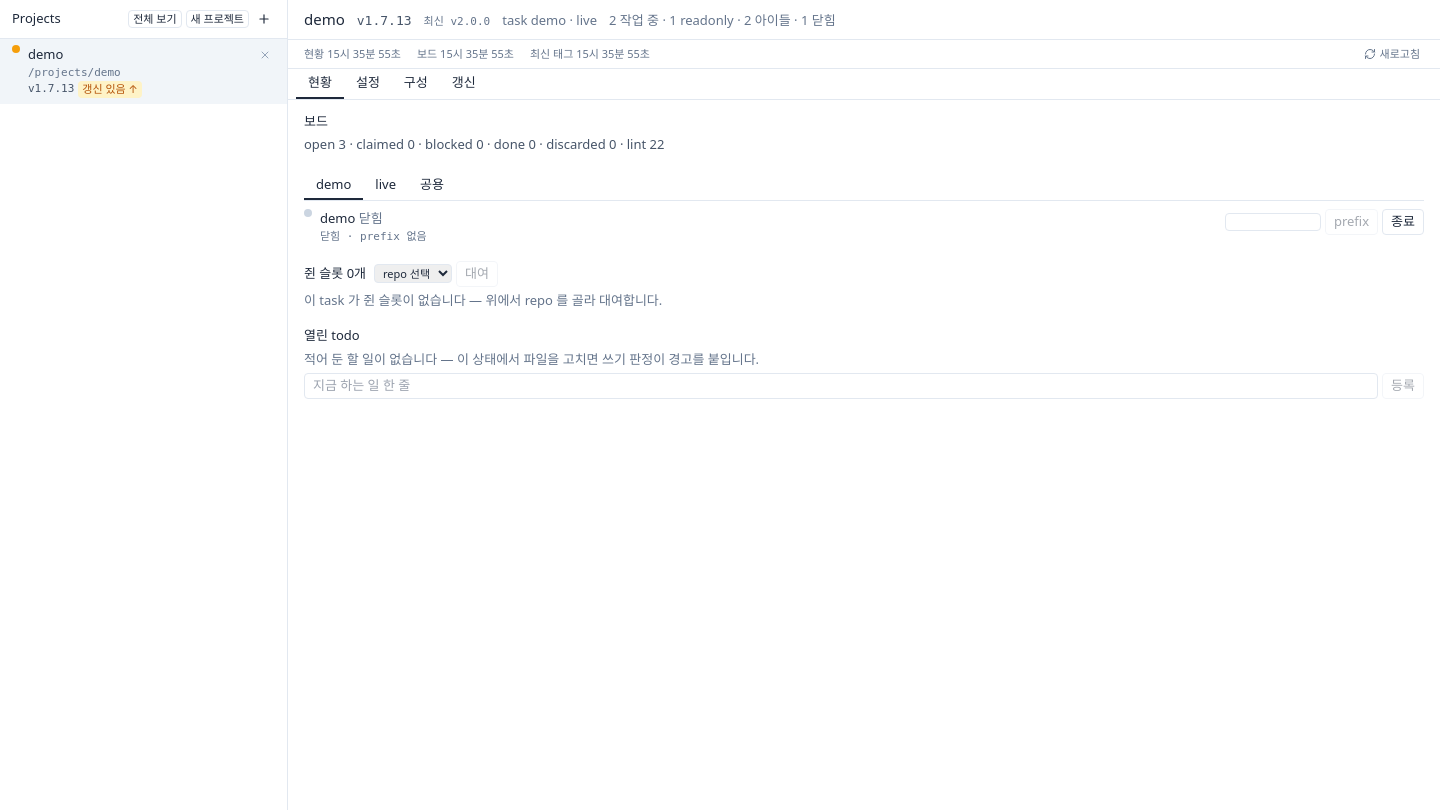
Test: 등록 › 새 행의 조회 키는 폴더 선택 표기가 아니라 등록부가 돌려준 표기다
Expected: the element with test id "project-demo" is shown, 0,39 -> 287,104
Click the button named "프로젝트 추가" at (264, 19), box 253,8 -> 275,30
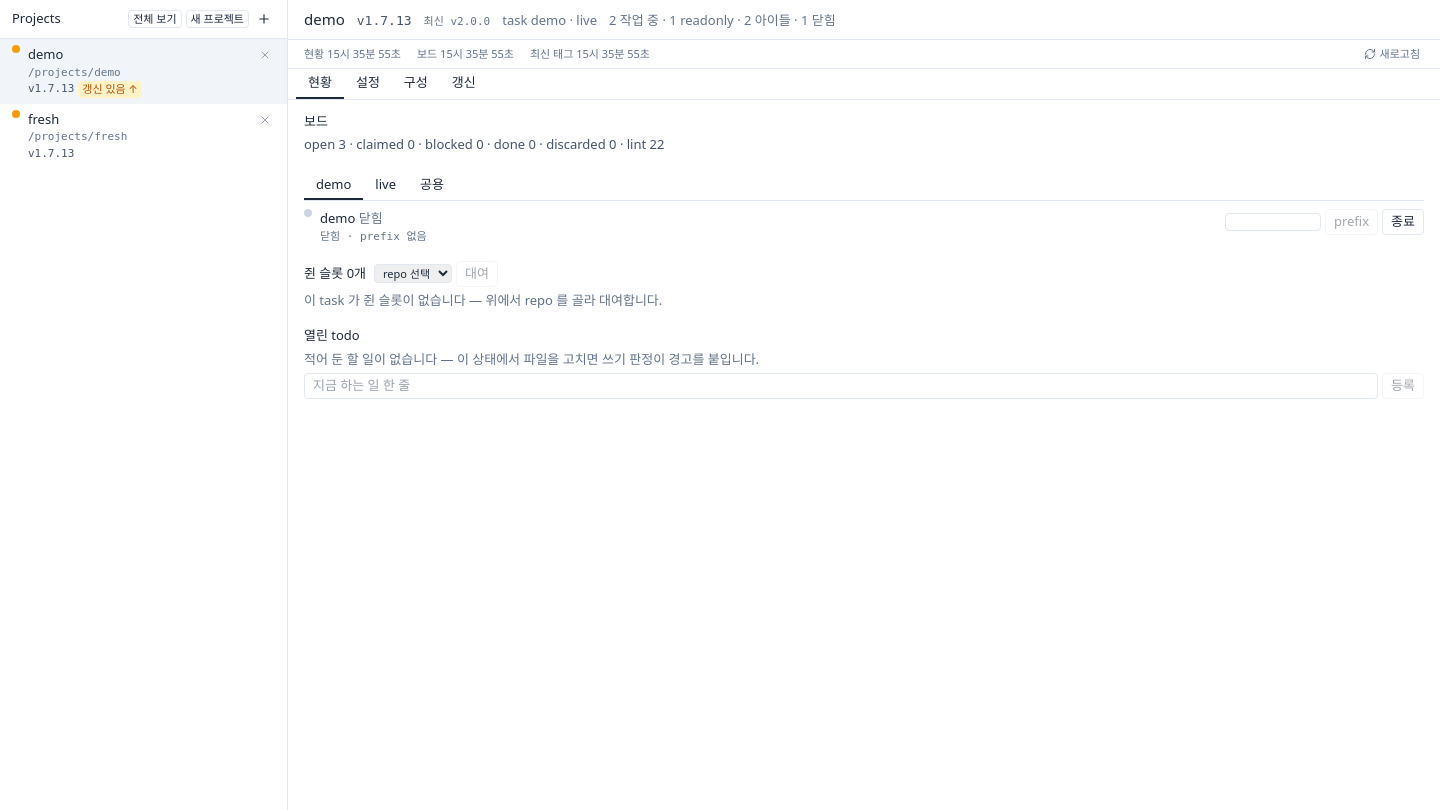
Now the element with test id "project-fresh" is shown, box 0,104 -> 287,168
